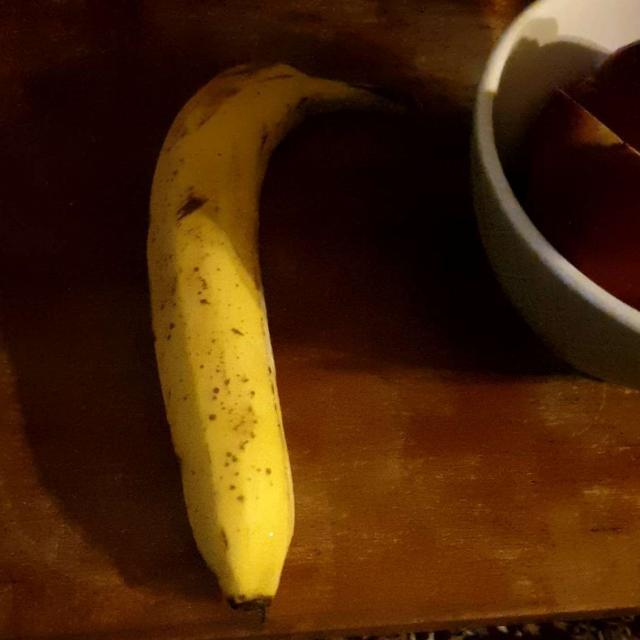banana: (150, 73, 369, 594)
